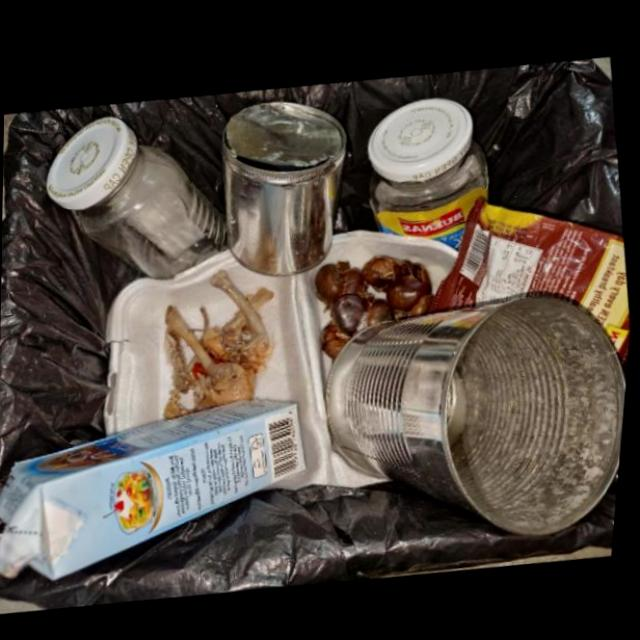chai_thuy_tinh: (48, 114, 233, 278), (369, 92, 491, 245)
goi_nhua_nho: (435, 192, 634, 354)
nhom: (330, 285, 631, 531), (224, 98, 349, 273)
thuc_an_thua: (167, 266, 278, 418)
vo_hop_sua: (0, 396, 312, 579)
vo_trai_cay: (318, 251, 438, 356)
xop: (110, 227, 462, 486)
